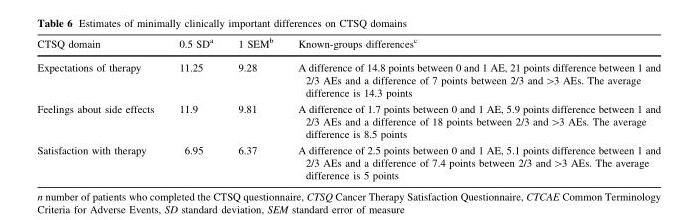table: (36, 36, 660, 180)
table column: (284, 36, 660, 180), (36, 36, 165, 180), (165, 36, 225, 180), (225, 36, 284, 180)
table column header: (36, 36, 660, 55)
table row: (36, 55, 660, 101), (36, 101, 660, 142), (36, 142, 660, 180), (36, 36, 660, 55)
